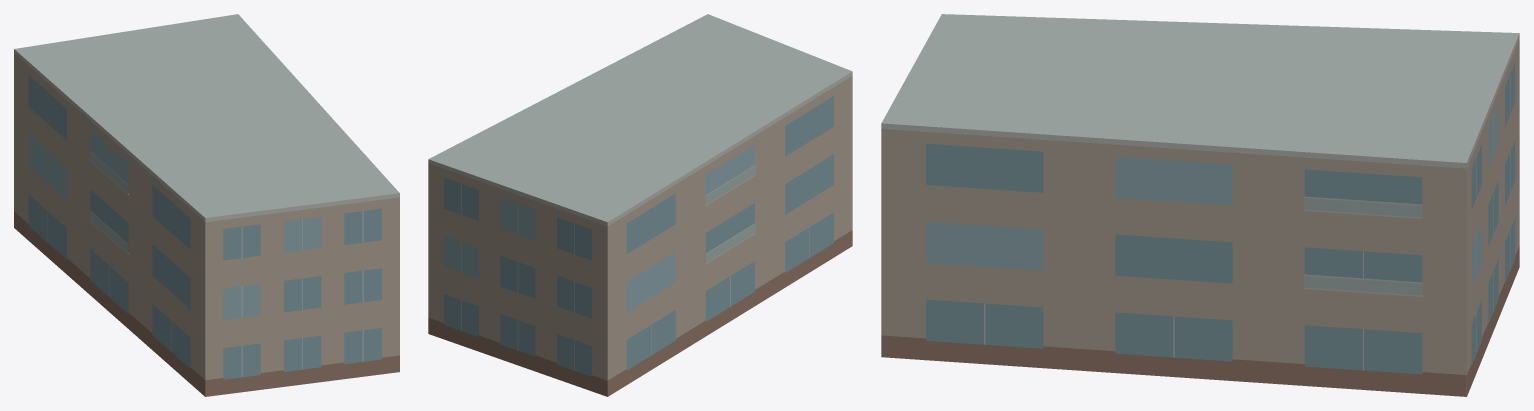
The model's file is survey-upis-33033155.glb.
The picture shows the model from 3 angles, left to right: view 1: azimuth 30°, elevation 25°; view 2: azimuth 150°, elevation 25°; view 3: azimuth 270°, elevation 25°; orthographic projection. The views are drawn at different scales.
Parts seen in each view (by area): view 1: survey-upis-33033155.tmp; view 2: survey-upis-33033155.tmp; view 3: survey-upis-33033155.tmp.
Part boxes in pixels (x1,y1,x2,y2): survey-upis-33033155.tmp: (14, 14, 399, 396); survey-upis-33033155.tmp: (428, 14, 852, 396); survey-upis-33033155.tmp: (881, 14, 1519, 396).
Bounding box in the file's own units: 14.23 × 10.4 × 25.75.
